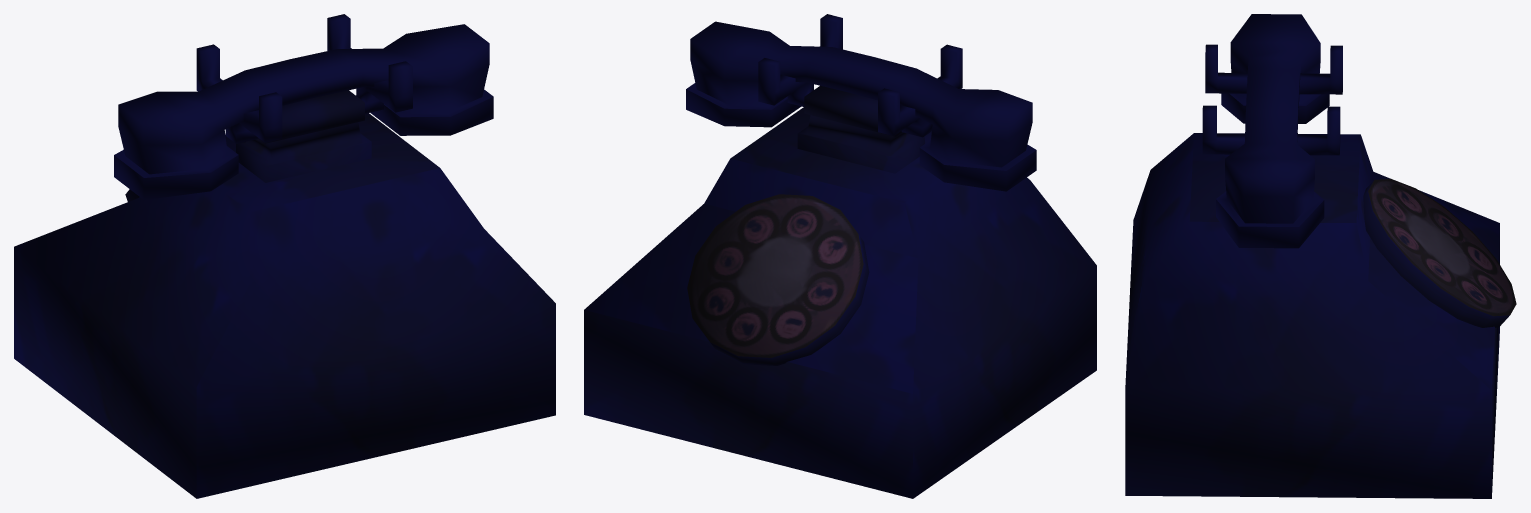
Rendered from Telefone.fbx.
The picture shows the model from 3 angles, left to right: view 1: azimuth 30°, elevation 25°; view 2: azimuth 150°, elevation 25°; view 3: azimuth 270°, elevation 25°; orthographic projection. The views are drawn at different scales.
Visible parts, largest first — view 1: Telefone; view 2: Telefone; view 3: Telefone.
Boxes of the visible parts, x1,y1,x2,y2 form: Telefone: [14, 14, 555, 498]; Telefone: [584, 14, 1096, 498]; Telefone: [1125, 14, 1516, 498].
Bounding box in the file's own units: 49.71 × 48.14 × 45.29.
